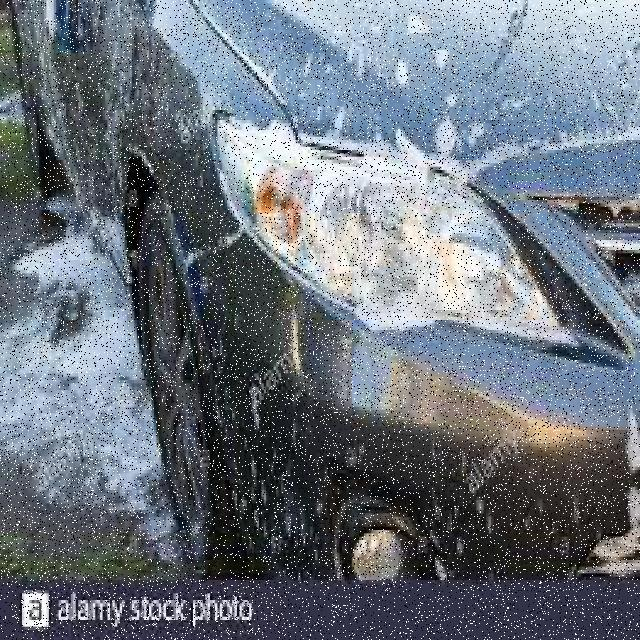Headlight-Damage: (196, 100, 528, 336)
